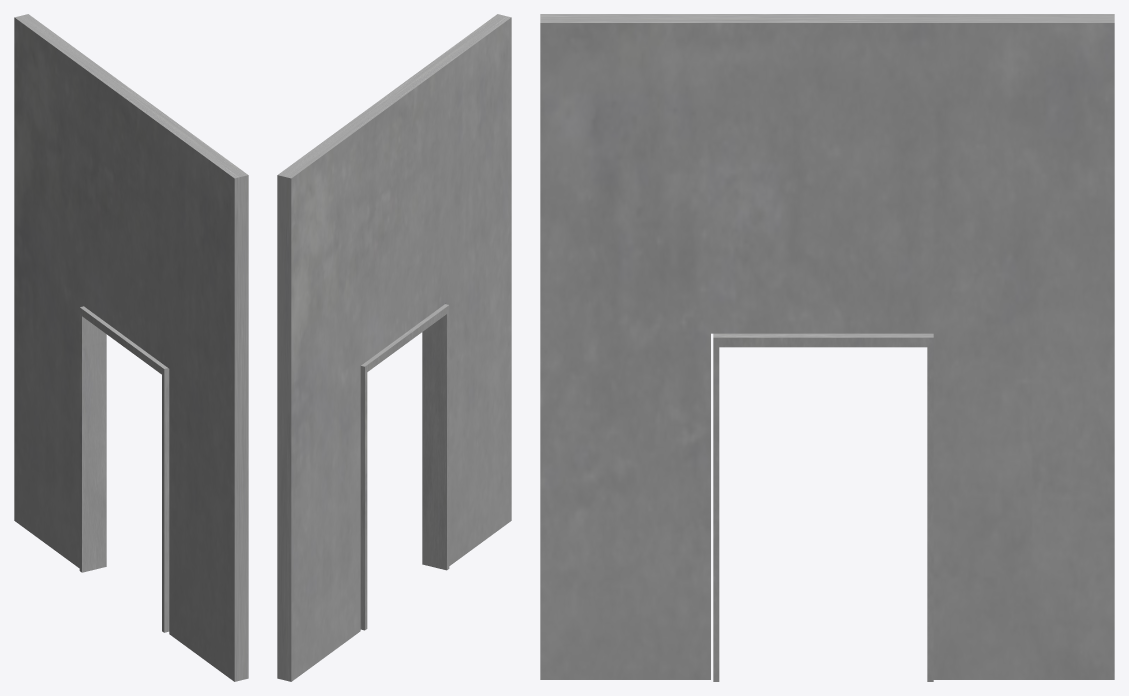
File: MuurDeurGat.fbx
3 renders of one model, left to right at view 1: azimuth 30°, elevation 25°; view 2: azimuth 150°, elevation 25°; view 3: azimuth 270°, elevation 25°, orthographic. The views are drawn at different scales.
Visible parts, largest first — view 1: pasted__DeurFrame; view 2: pasted__DeurFrame; view 3: pasted__DeurFrame.
Part boxes in pixels (left/top/right/bottom): pasted__DeurFrame: left=14, top=14, right=248, bottom=681; pasted__DeurFrame: left=277, top=14, right=511, bottom=681; pasted__DeurFrame: left=540, top=14, right=1114, bottom=681.
Size of the model in its own units: 1.26 by 24.74 by 19.6.
1 material, 1 textured.
